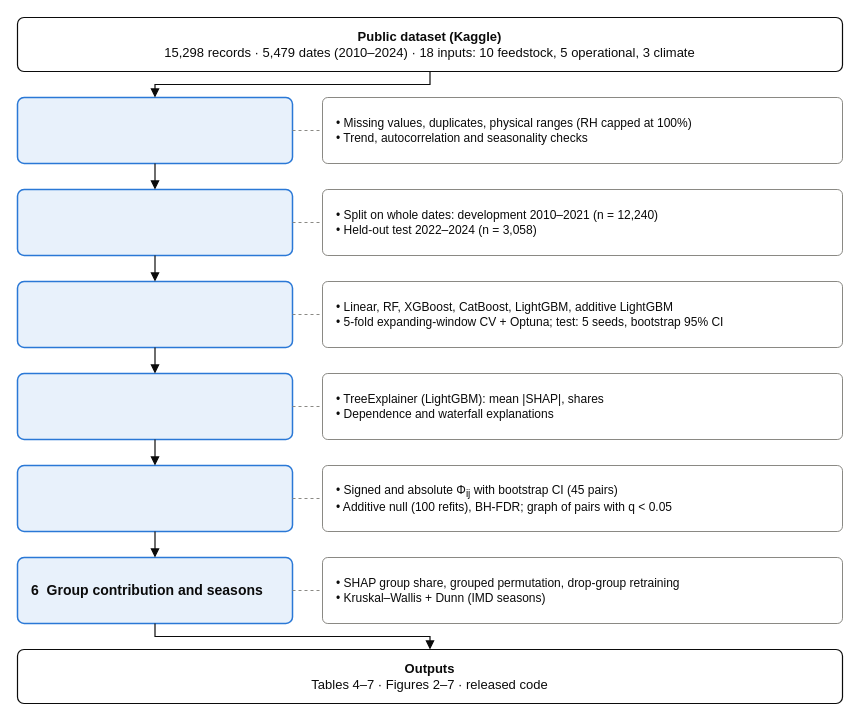
The diagram is 861 pixels wide and 722 high, and some of its shapes have lost their labels. Here are the shapes that lost their labels. From the top down, the centre of each, then its label:
(x=154, y=130): 1 Data audit and preprocessing
(x=154, y=222): 2 Chronological partitioning
(x=154, y=314): 3 Model tuning and comparison
(x=154, y=406): 4 SHAP main effects
(x=154, y=498): 5 SHAP interactions and null test
